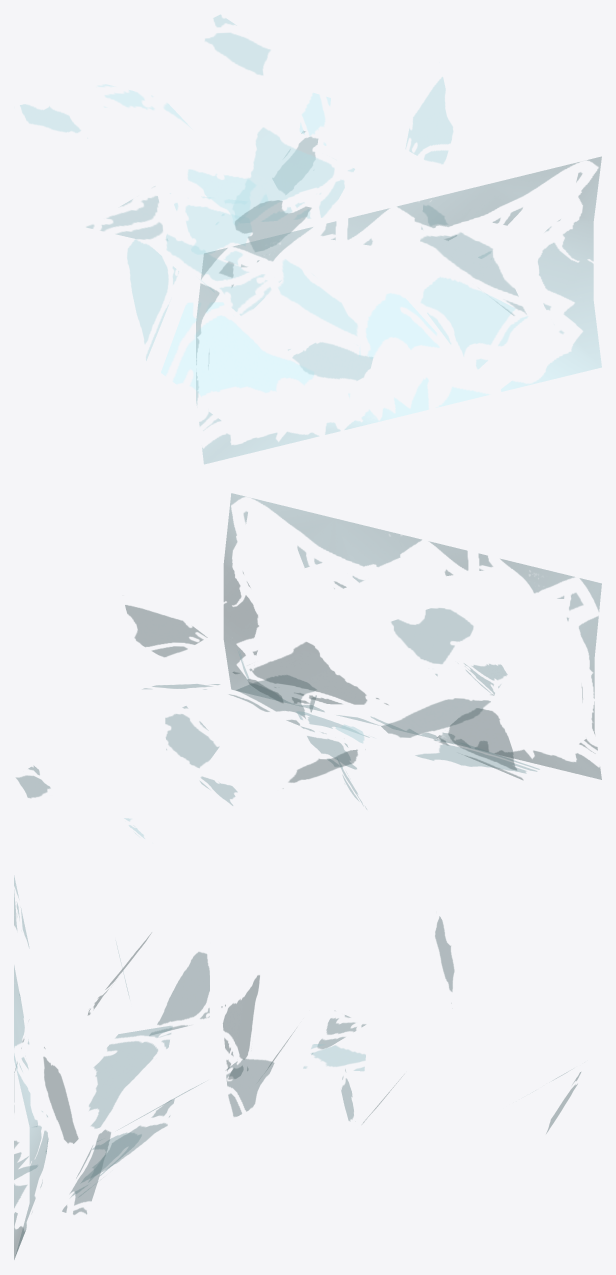
Rendered from glass_shattered.glb.
3 renders of one model, top to bottom at view 1: azimuth 30°, elevation 25°; view 2: azimuth 150°, elevation 25°; view 3: azimuth 270°, elevation 25°, orthographic. The views are drawn at different scales.
Visible parts, largest first — view 1: glass_shatter; view 2: glass_shatter; view 3: glass_shatter.
Boxes of the visible parts, x1,y1,x2,y2 form: glass_shatter: (20, 14, 601, 464); glass_shatter: (16, 493, 601, 838); glass_shatter: (14, 876, 580, 1259).
Bounding box in the file's own units: 6.41 × 3.25 × 8.6.
Materials: 1 (1 with a texture image).
